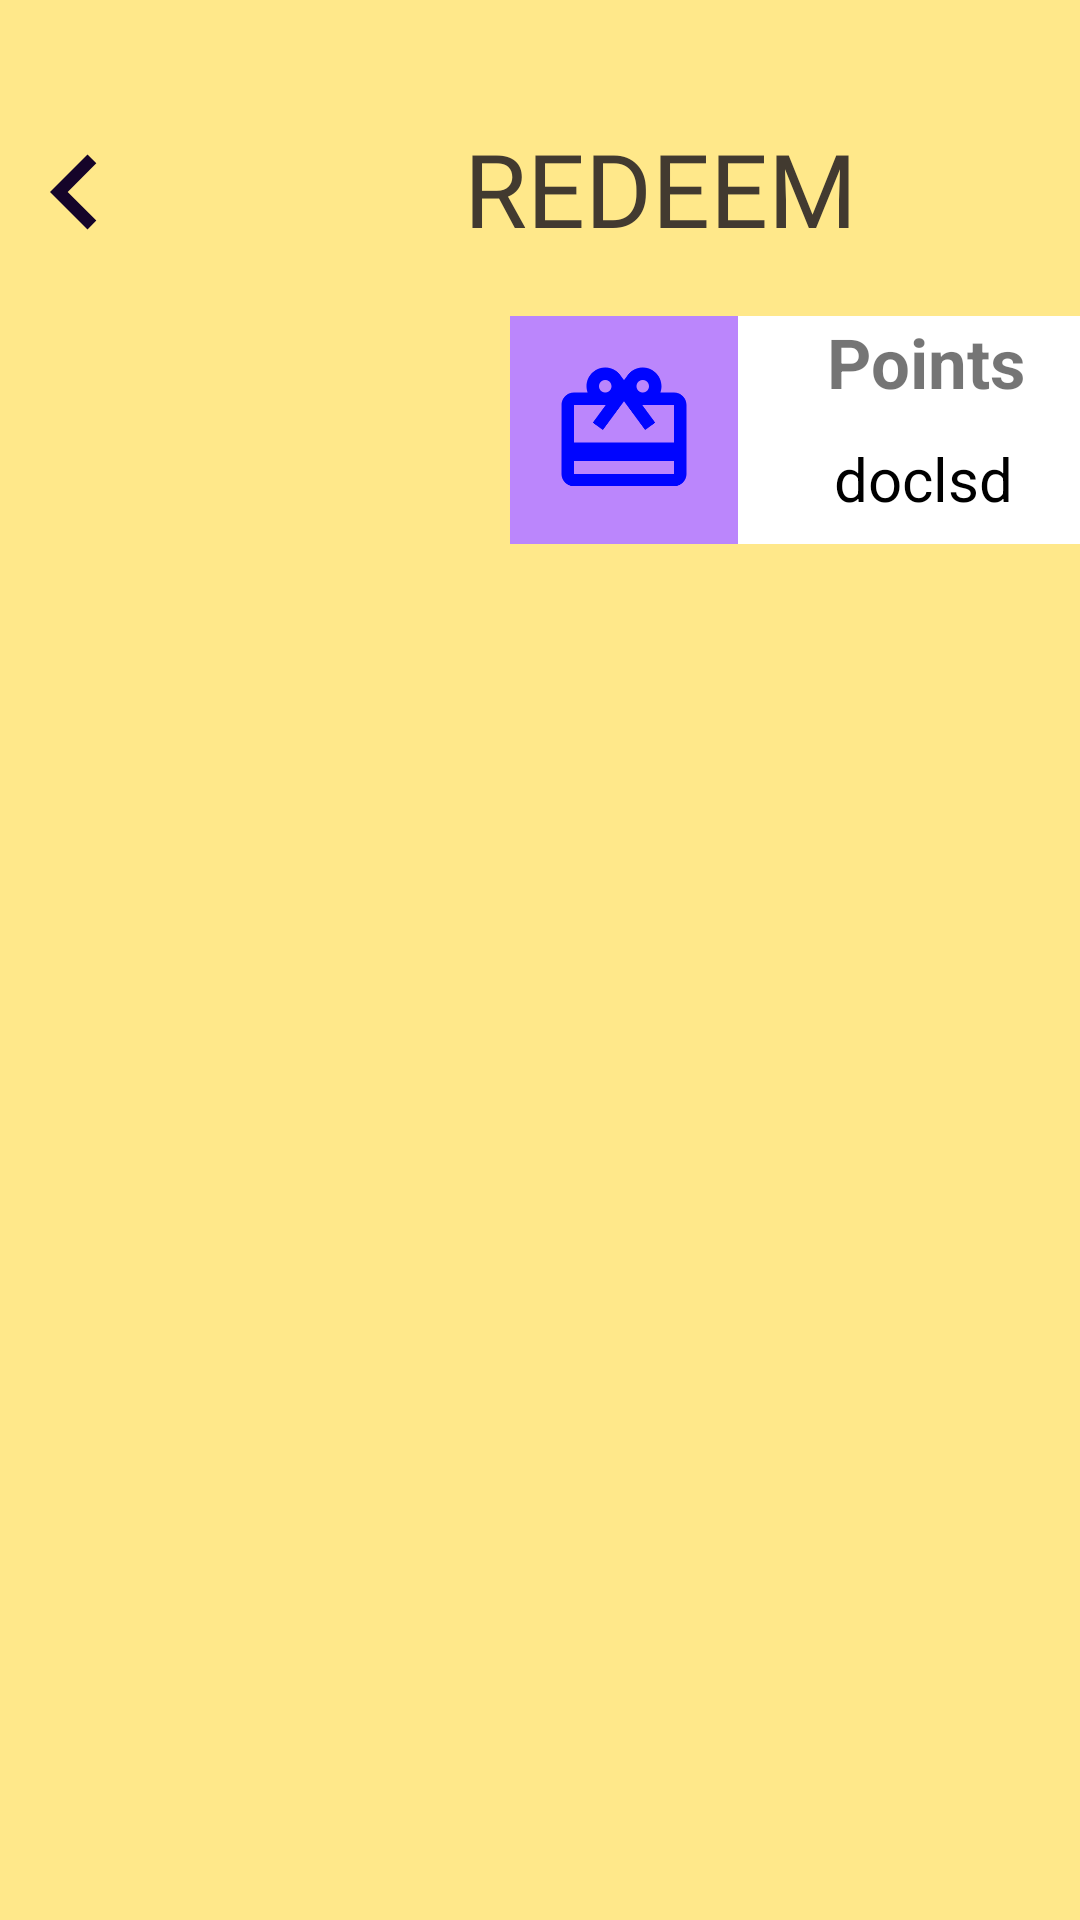

Where icons sit on this 1080x1920 app screen, as (x1, y1, x2, y2):
arrow back: (50, 154, 96, 230)
giftcard: (510, 316, 738, 544)
